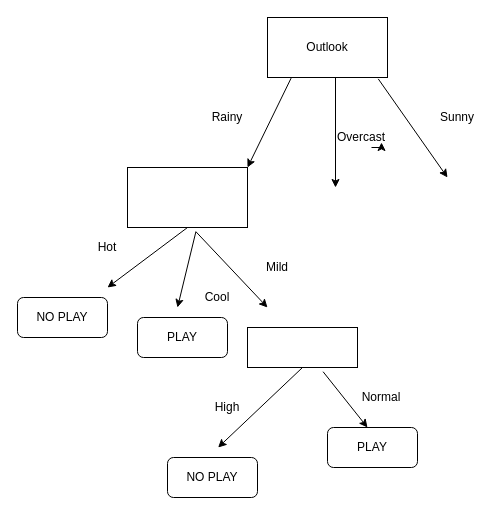
Some shapes in this 495 by 515 pixel diagram are drawn without their labels. The shapes that lost their labels are listed below. From the top down, each one's centre as x and y in pixels, then its label:
At point (187, 197): "Temp".
At point (302, 347): "Humidity".
